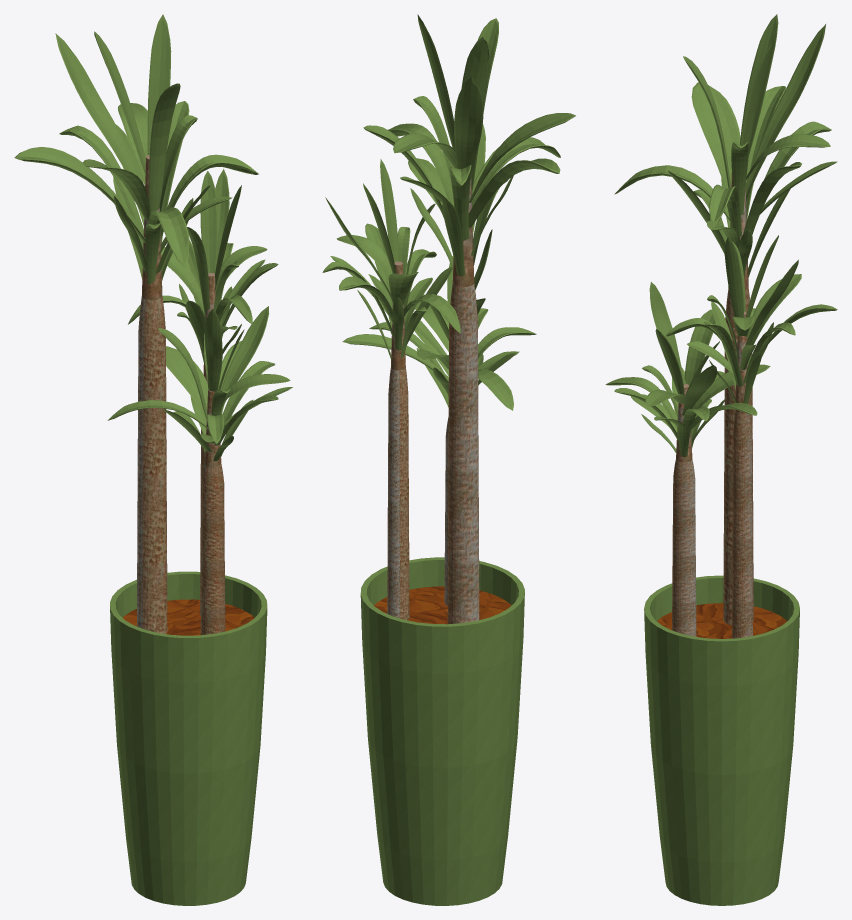
The model's file is Planta.obj.
3 renders of one model, left to right at view 1: azimuth 30°, elevation 25°; view 2: azimuth 150°, elevation 25°; view 3: azimuth 270°, elevation 25°, orthographic. The views are drawn at different scales.
Visible parts, largest first — view 1: Maceta_MAceta, Hojas_Hoja, tallos_Tallo, tierra_Tierra; view 2: Maceta_MAceta, Hojas_Hoja, tallos_Tallo, tierra_Tierra; view 3: Maceta_MAceta, Hojas_Hoja, tallos_Tallo, tierra_Tierra.
Part boxes in pixels (x1=…): Maceta_MAceta: x1=110, y1=571, x2=267, y2=905; Hojas_Hoja: x1=14, y1=14, x2=292, y2=461; tallos_Tallo: x1=136, y1=155, x2=225, y2=635; tierra_Tierra: x1=122, y1=599, x2=254, y2=635; Maceta_MAceta: x1=360, y1=557, x2=524, y2=905; Hojas_Hoja: x1=322, y1=14, x2=575, y2=410; tallos_Tallo: x1=387, y1=179, x2=479, y2=623; tierra_Tierra: x1=374, y1=586, x2=511, y2=624; Maceta_MAceta: x1=644, y1=575, x2=799, y2=905; Hojas_Hoja: x1=605, y1=14, x2=837, y2=457; tallos_Tallo: x1=672, y1=173, x2=753, y2=638; tierra_Tierra: x1=657, y1=603, x2=787, y2=638.
Size of the model in its own units: 1.79 by 6.17 by 1.55.
Materials: 4 (4 with a texture image).
